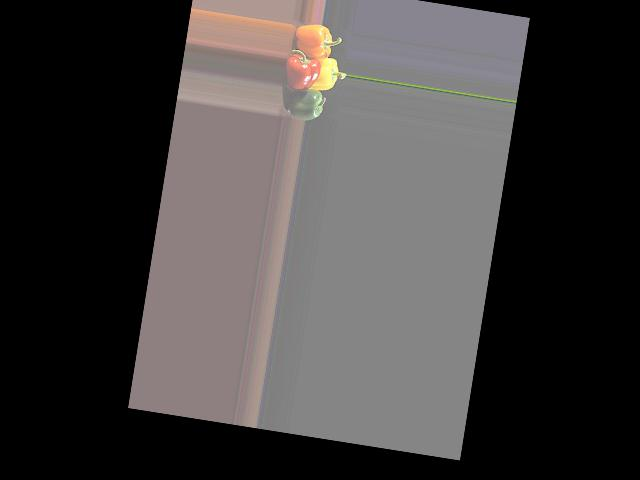bell_pepper: (286, 20, 339, 62)
